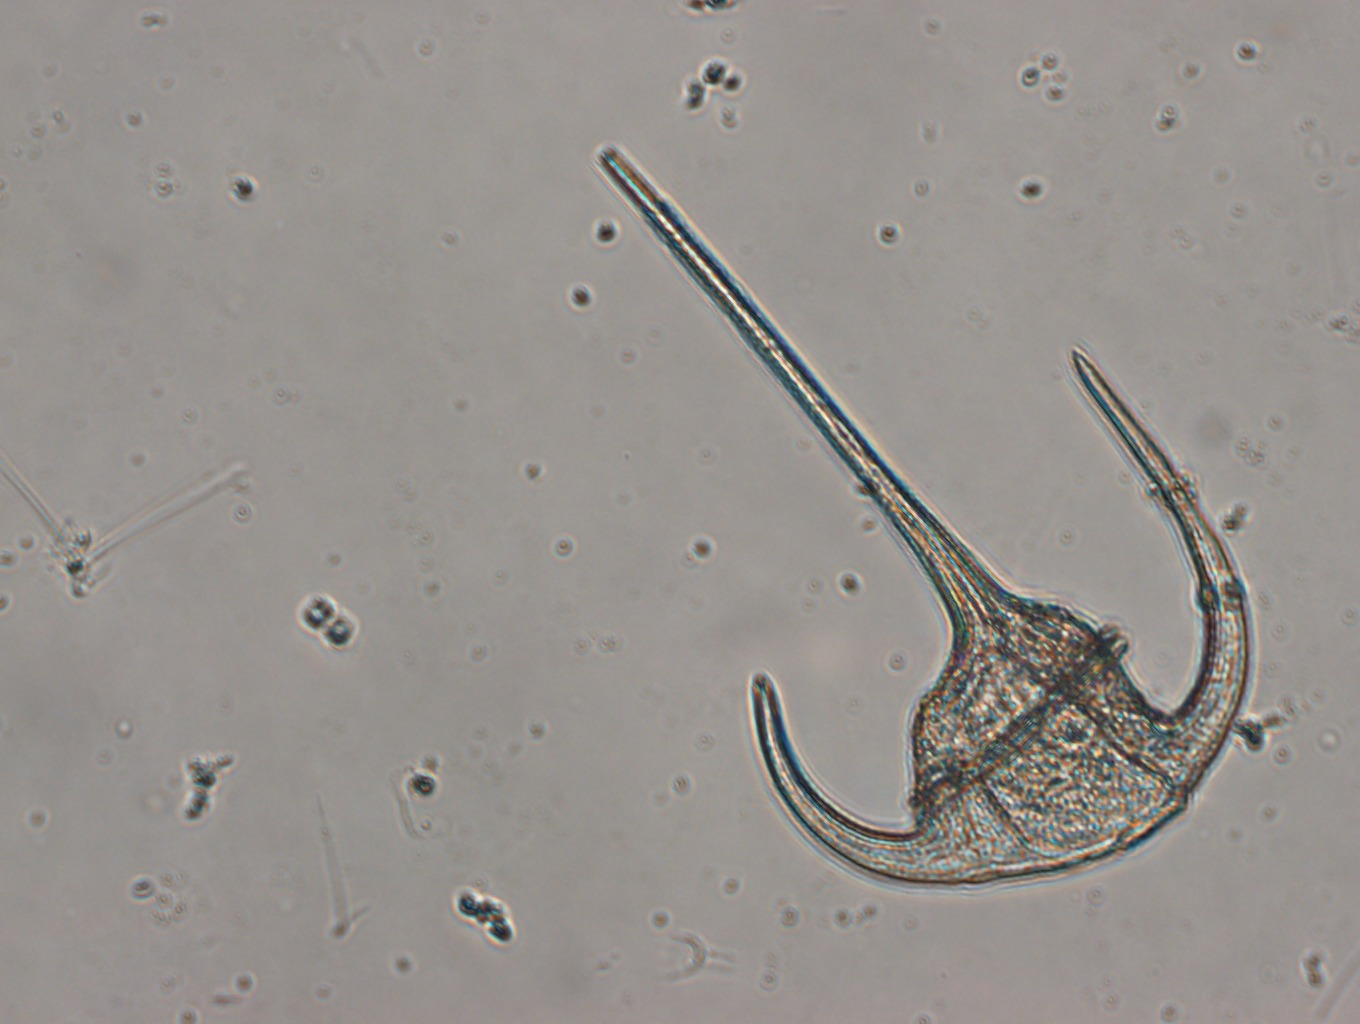ceratium tripos: (590, 144, 1257, 893)
